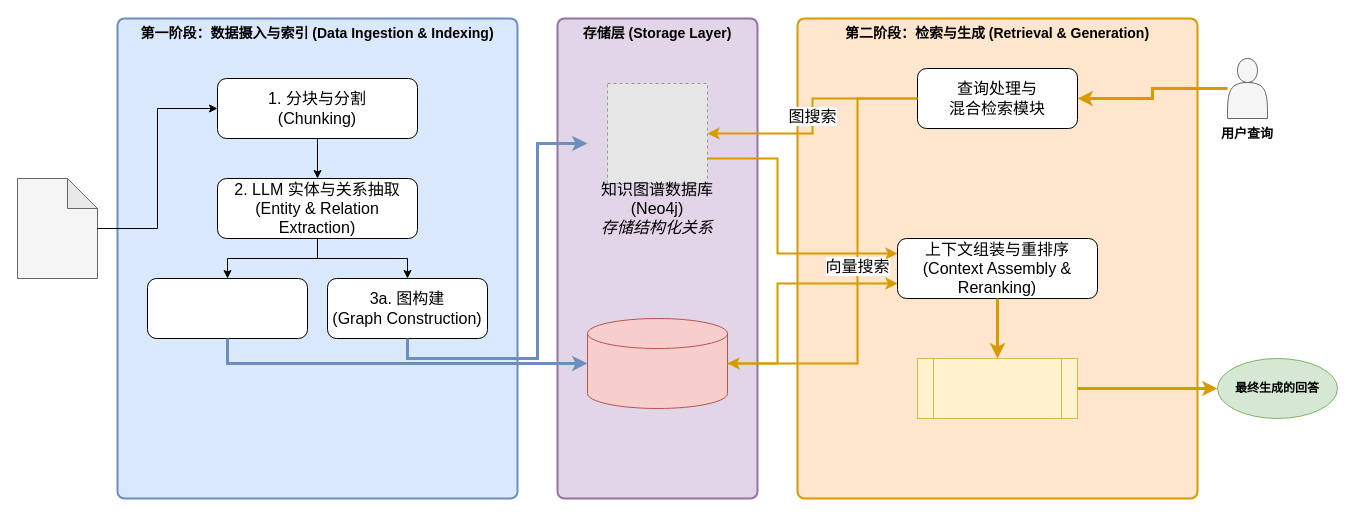
Some shapes in this 1355 by 516 pixel diagram are drawn without their labels. Grey dashed boxes stand in for pictures. Each missing label, with the centre of its shape:
3b. 向量嵌入 (Vector Embedding): the point at 227,308
向量数据库 (Vector DB) 存储语义嵌入: the point at 657,363
源文档 (PDF, Wiki, 文本): the point at 57,228
生成式 LLM (大语言模型): the point at 997,388
